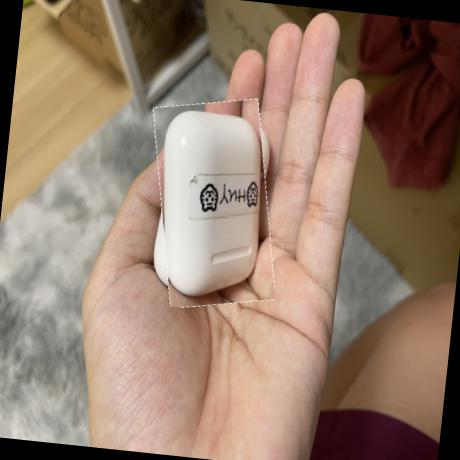airpod2: (141, 92, 286, 313)
